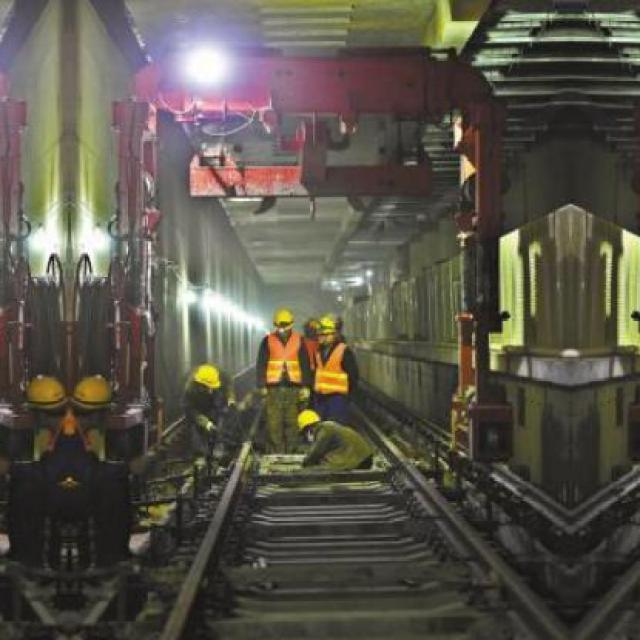helmet: (71, 367, 114, 427), (25, 367, 68, 427), (295, 403, 323, 443), (192, 361, 218, 402), (271, 304, 292, 339), (315, 315, 337, 347)
